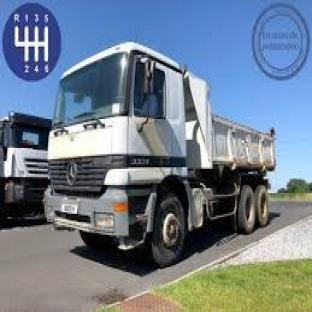Vehicle: (43, 62, 280, 235)
